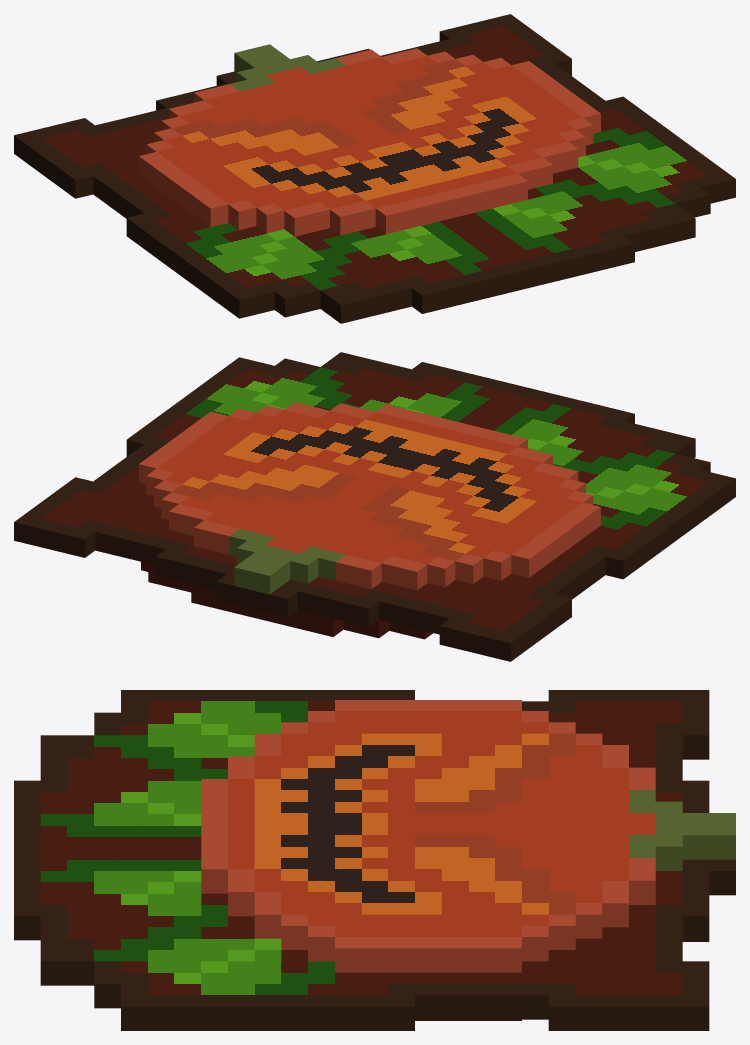
File: 61c12e2e-e046-442e-bba6-50af8fcfb60c.gltf
3 renders of one model, top to bottom at view 1: azimuth 30°, elevation 25°; view 2: azimuth 150°, elevation 25°; view 3: azimuth 270°, elevation 25°, orthographic. The views are drawn at different scales.
Visible parts, largest first — view 1: Equip_Left_Hand-Local; view 2: Equip_Left_Hand-Local; view 3: Equip_Left_Hand-Local.
Part boxes in pixels (<box>): Equip_Left_Hand-Local: <box>14,14,735,323</box>; Equip_Left_Hand-Local: <box>14,352,735,661</box>; Equip_Left_Hand-Local: <box>14,690,735,1030</box>.
Size of the model in its own units: 28 by 6 by 27.
1 material, 1 textured.
